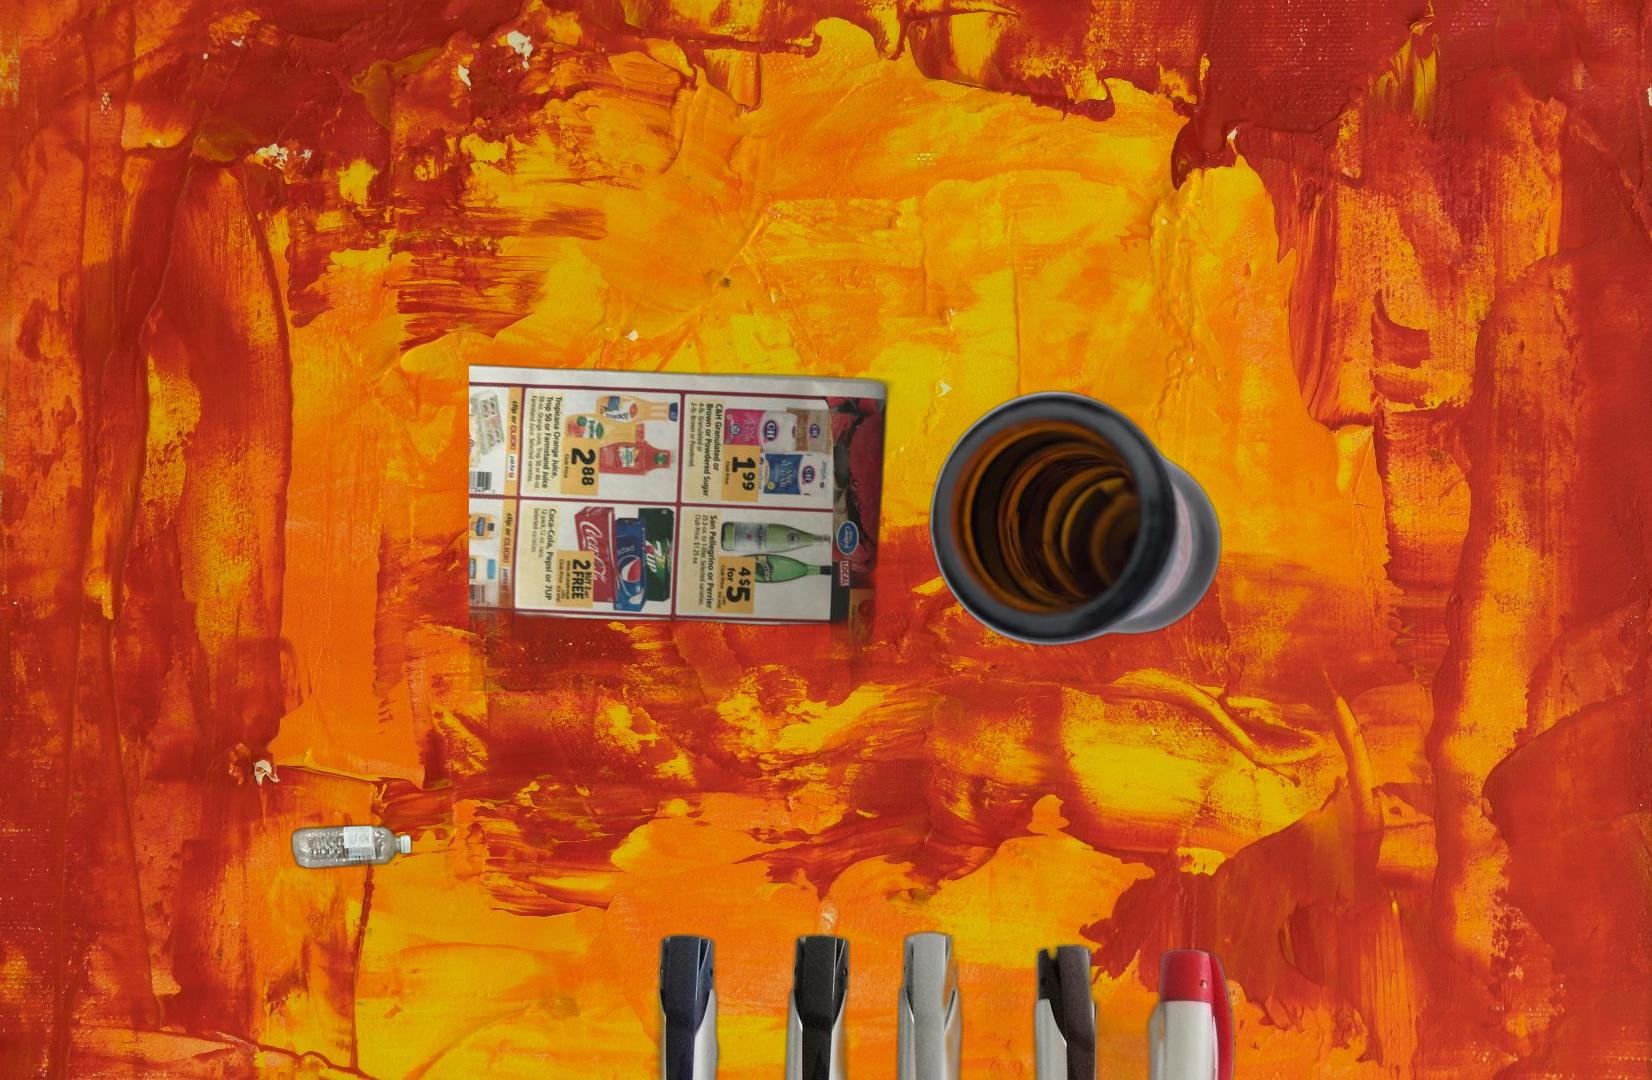glass: (925, 387, 1225, 648)
paper: (469, 360, 898, 691)
penholder: (648, 927, 1241, 1080)
plastic-bottles: (287, 818, 416, 875)
